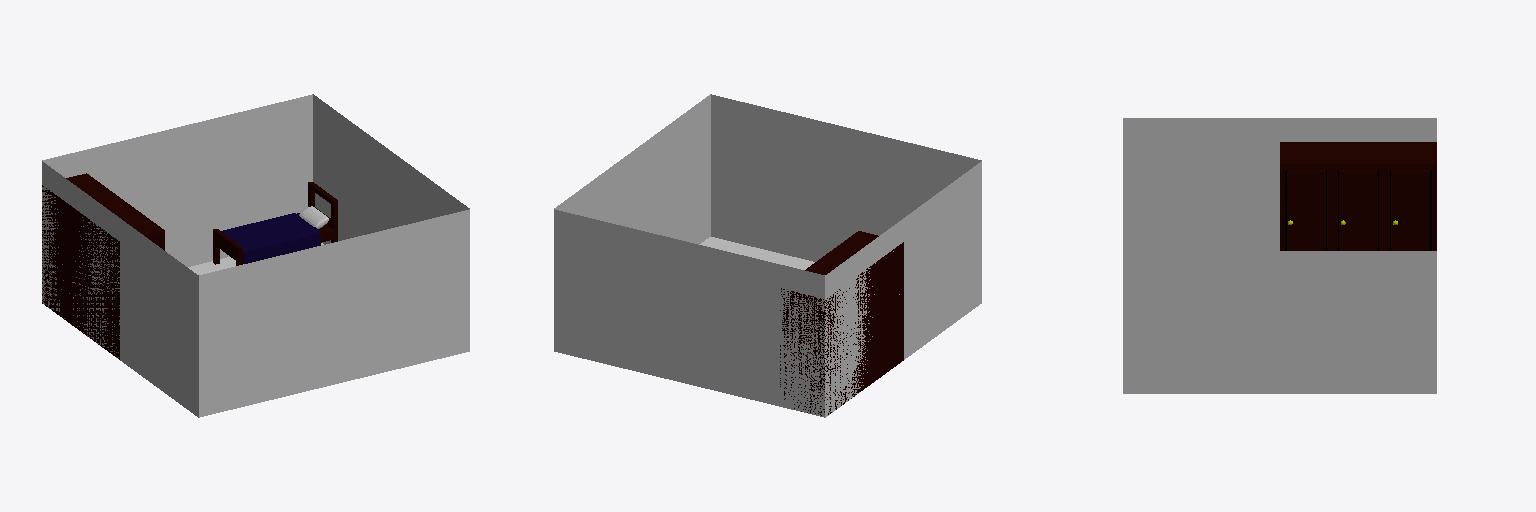
Rendered from sample_room.obj.
3 renders of one model, left to right at view 1: azimuth 30°, elevation 25°; view 2: azimuth 150°, elevation 25°; view 3: azimuth 270°, elevation 25°, orthographic.
Parts seen in each view (by area): view 1: Room, Cube, BedFrame; view 2: Room, Cube; view 3: Room, Cube.
Part boxes in pixels (x1,y1,x2,y2): Room: (42,94,469,417); Cube: (42,173,164,359); BedFrame: (213,182,337,265); Room: (554,94,981,417); Cube: (780,231,903,415); Room: (1123,118,1436,393); Cube: (1280,142,1436,250).
Size of the model in its own units: 6 by 3 by 6.